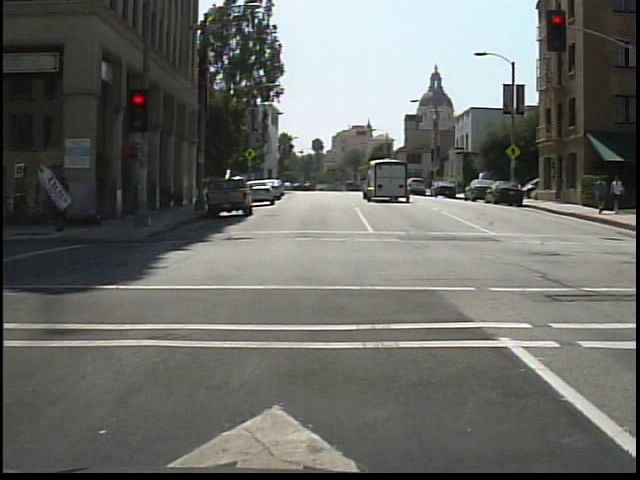person: (47, 165, 88, 235), (591, 176, 610, 219), (609, 175, 625, 219)
